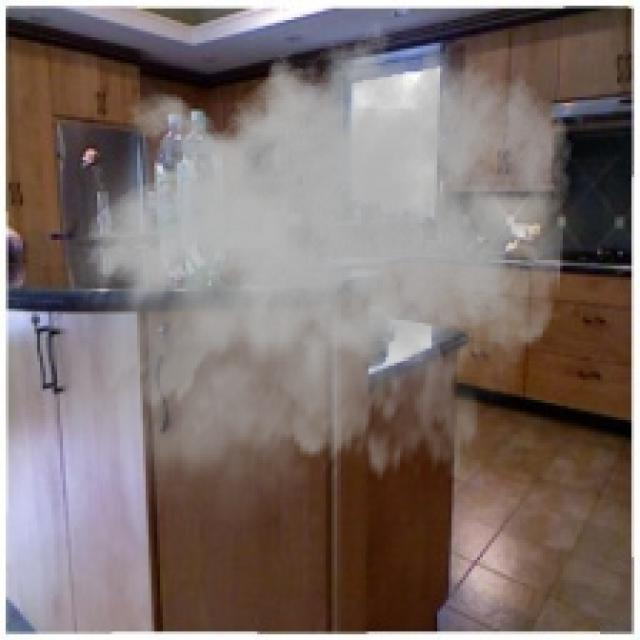Smoke: (37, 6, 574, 540)
